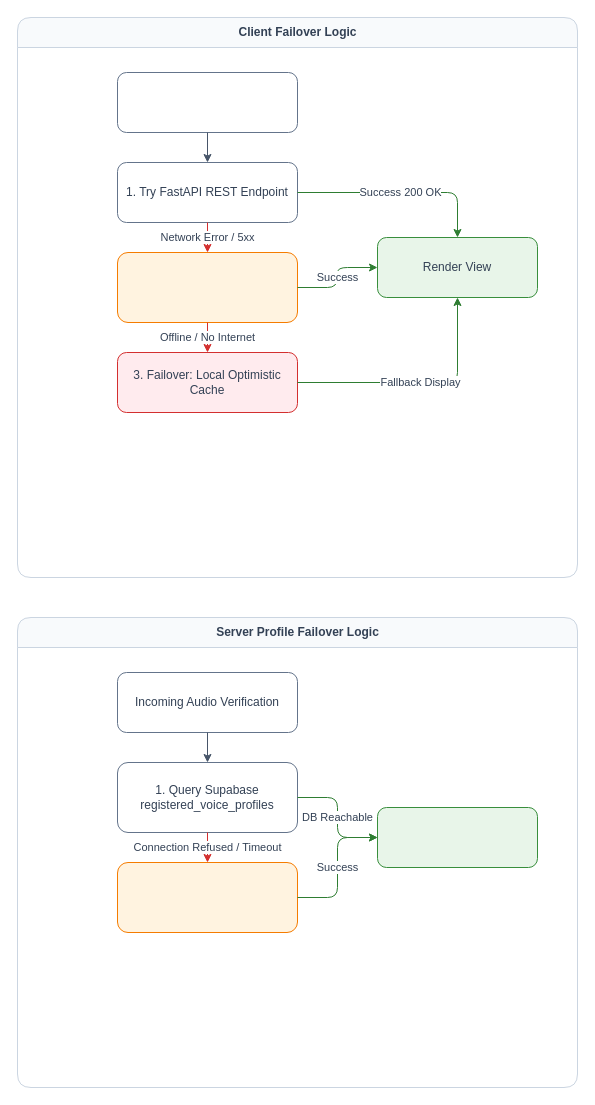
Some shapes in this 595 by 1105 pixel diagram are drawn without their labels. Each missing label, with the centre of its shape:
"2. Failover: Direct Supabase Client Query" goes at point 207,287.
"2. Failover: Read local parent_profile.wav from disk" goes at point 207,897.
"Client Needs Alert History / Ack" goes at point 207,102.
"Extract 64-D Vectors" goes at point 457,837.
